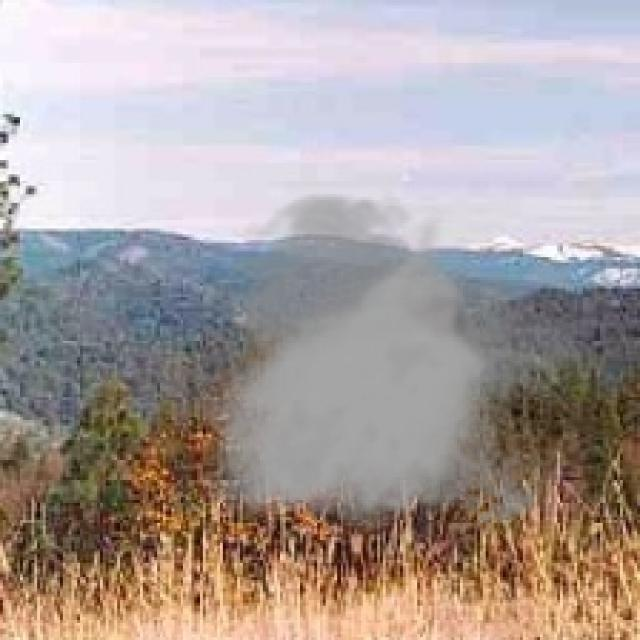Smoke: (194, 188, 583, 538)
